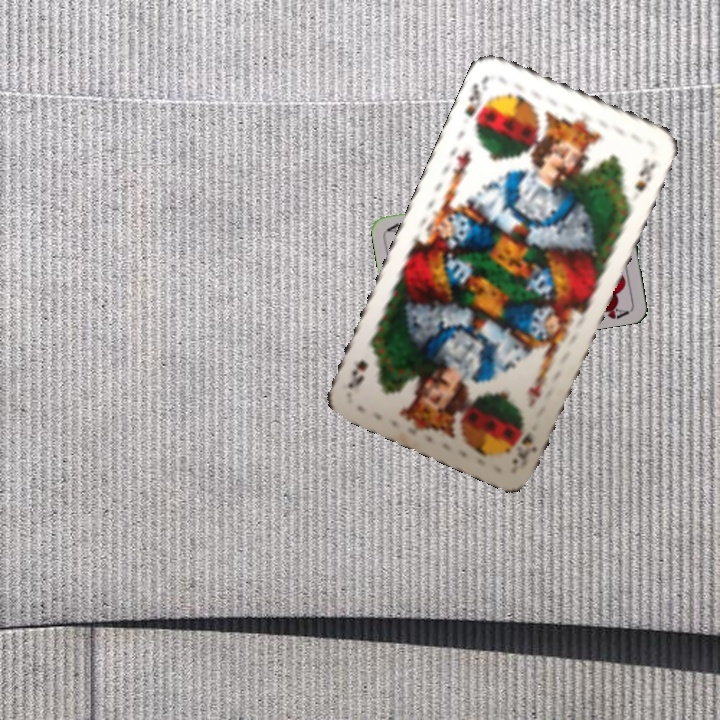SK: (461, 72, 491, 132), (508, 427, 540, 470)
